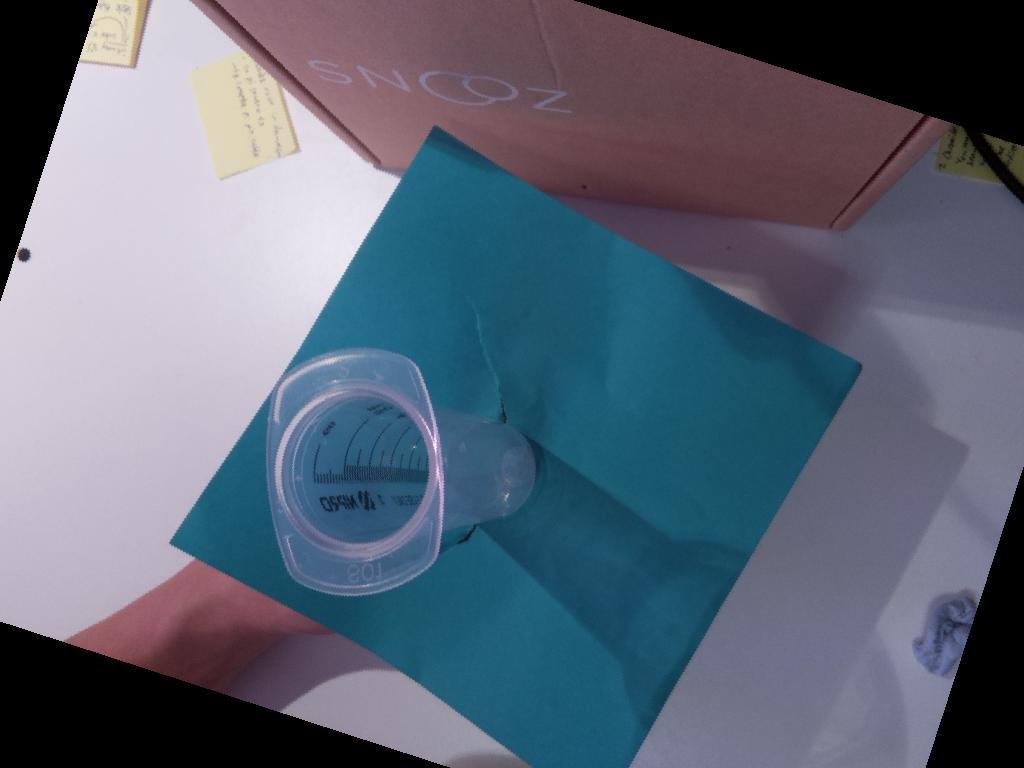clean: (265, 347, 448, 599)
